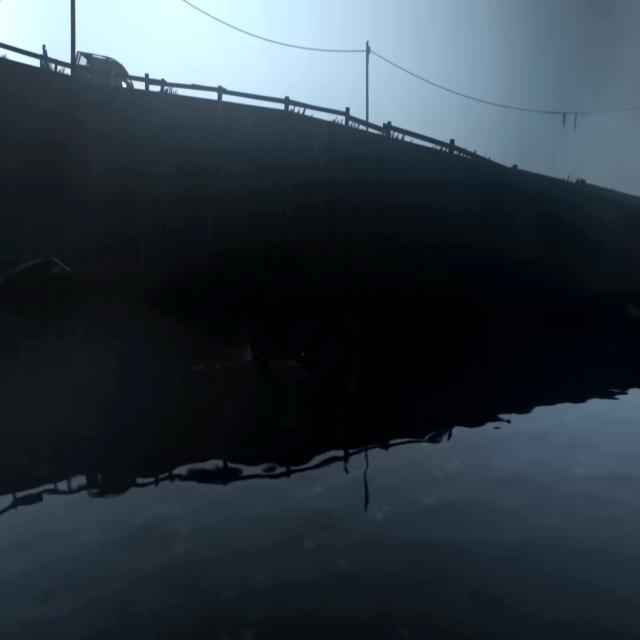boy: (253, 352, 308, 364)
